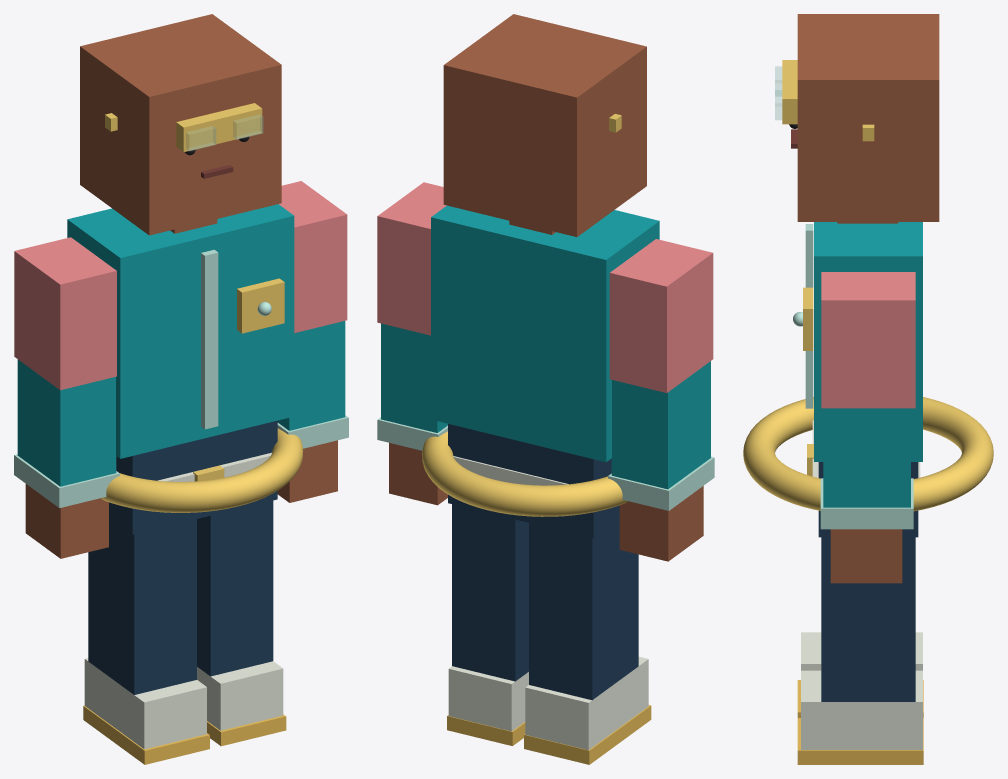
Rendered from mira_wave_rider.glb.
The picture shows the model from 3 angles, left to right: view 1: azimuth 30°, elevation 25°; view 2: azimuth 150°, elevation 25°; view 3: azimuth 270°, elevation 25°; orthographic projection. The views are drawn at different scales.
Parts seen in each view (by area): view 1: mira_wave_rider_torso, mira_wave_rider_head, mira_wave_rider_left_leg, mira_wave_rider_left_upper_sleeve, mira_wave_rider_right_leg, mira_wave_rider_left_forearm, mira_wave_rider_right_upper_sleeve, mira_wave_rider_rescue_float, mira_wave_rider_waist, mira_wave_rider_left_boot, mira_wave_rider_right_forearm, mira_wave_rider_right_boot (+12 smaller); view 2: mira_wave_rider_torso, mira_wave_rider_head, mira_wave_rider_left_leg, mira_wave_rider_left_upper_sleeve, mira_wave_rider_right_leg, mira_wave_rider_left_forearm, mira_wave_rider_right_upper_sleeve, mira_wave_rider_rescue_float, mira_wave_rider_waist, mira_wave_rider_left_boot, mira_wave_rider_right_forearm, mira_wave_rider_left_hand (+7 smaller); view 3: mira_wave_rider_head, mira_wave_rider_right_upper_sleeve, mira_wave_rider_right_leg, mira_wave_rider_rescue_float, mira_wave_rider_right_forearm, mira_wave_rider_torso, mira_wave_rider_right_boot, mira_wave_rider_right_hand, mira_wave_rider_right_cuff, mira_wave_rider_right_sole, mira_wave_rider_left_boot, mira_wave_rider_front_placket (+3 smaller).
Part boxes in pixels (x1,y1,x2,y2): mira_wave_rider_torso: (67,204,294,458); mira_wave_rider_head: (80,14,281,235); mira_wave_rider_left_leg: (88,517,196,694); mira_wave_rider_left_upper_sleeve: (14,237,116,390); mira_wave_rider_right_leg: (197,500,273,676); mira_wave_rider_left_forearm: (17,359,116,486); mira_wave_rider_right_upper_sleeve: (279,181,347,332); mira_wave_rider_rescue_float: (101,428,303,512); mira_wave_rider_waist: (109,420,277,534); mira_wave_rider_left_boot: (84,658,206,749); mira_wave_rider_right_forearm: (277,321,345,430); mira_wave_rider_right_boot: (197,661,283,730); mira_wave_rider_torso: (431,205,659,462); mira_wave_rider_head: (443,14,646,236); mira_wave_rider_left_leg: (529,520,638,700); mira_wave_rider_left_upper_sleeve: (609,239,713,392); mira_wave_rider_right_leg: (452,504,528,681); mira_wave_rider_left_forearm: (611,361,710,489); mira_wave_rider_right_upper_sleeve: (377,182,446,335); mira_wave_rider_rescue_float: (422,431,627,516); mira_wave_rider_waist: (448,424,619,538); mira_wave_rider_left_boot: (525,656,648,750); mira_wave_rider_right_forearm: (381,323,447,432); mira_wave_rider_left_hand: (619,486,703,561); mira_wave_rider_head: (797,14,939,221); mira_wave_rider_right_upper_sleeve: (821,272,915,408); mira_wave_rider_right_leg: (821,537,915,701); mira_wave_rider_rescue_float: (743,397,993,511); mira_wave_rider_right_forearm: (823,408,910,507); mira_wave_rider_torso: (814,222,922,461); mira_wave_rider_right_boot: (801,670,922,749); mira_wave_rider_right_hand: (830,529,902,583); mira_wave_rider_right_cuff: (820,478,913,529); mira_wave_rider_right_sole: (797,718,923,764); mira_wave_rider_left_boot: (801,632,922,670); mira_wave_rider_front_placket: (805,224,813,408).
Size of the model in its own units: 0.516 by 1.14 by 0.378.
